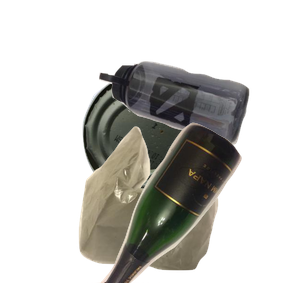glass: (87, 120, 300, 300)
metal: (80, 68, 284, 248)
plastic: (97, 59, 300, 197)
trash: (76, 124, 287, 300)
